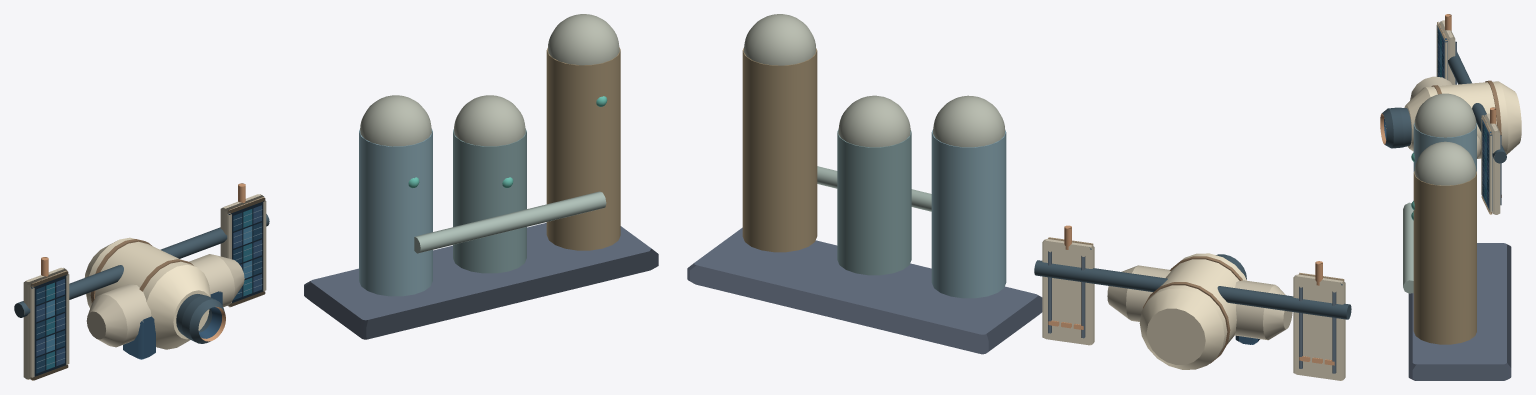
The model's file is orbita-sistemas.obj.
3 renders of one model, left to right at view 1: azimuth 30°, elevation 25°; view 2: azimuth 150°, elevation 25°; view 3: azimuth 270°, elevation 25°, orthographic. The views are drawn at different scales.
Parts seen in each view (by area): view 1: orbita-sistemas; view 2: orbita-sistemas; view 3: orbita-sistemas.
Part boxes in pixels (left/top/right/bottom): orbita-sistemas: left=14, top=14, right=658, bottom=380; orbita-sistemas: left=687, top=14, right=1351, bottom=380; orbita-sistemas: left=1380, top=14, right=1521, bottom=380.
Bounding box in the file's own units: 1.71 × 0.6585 × 0.393.
